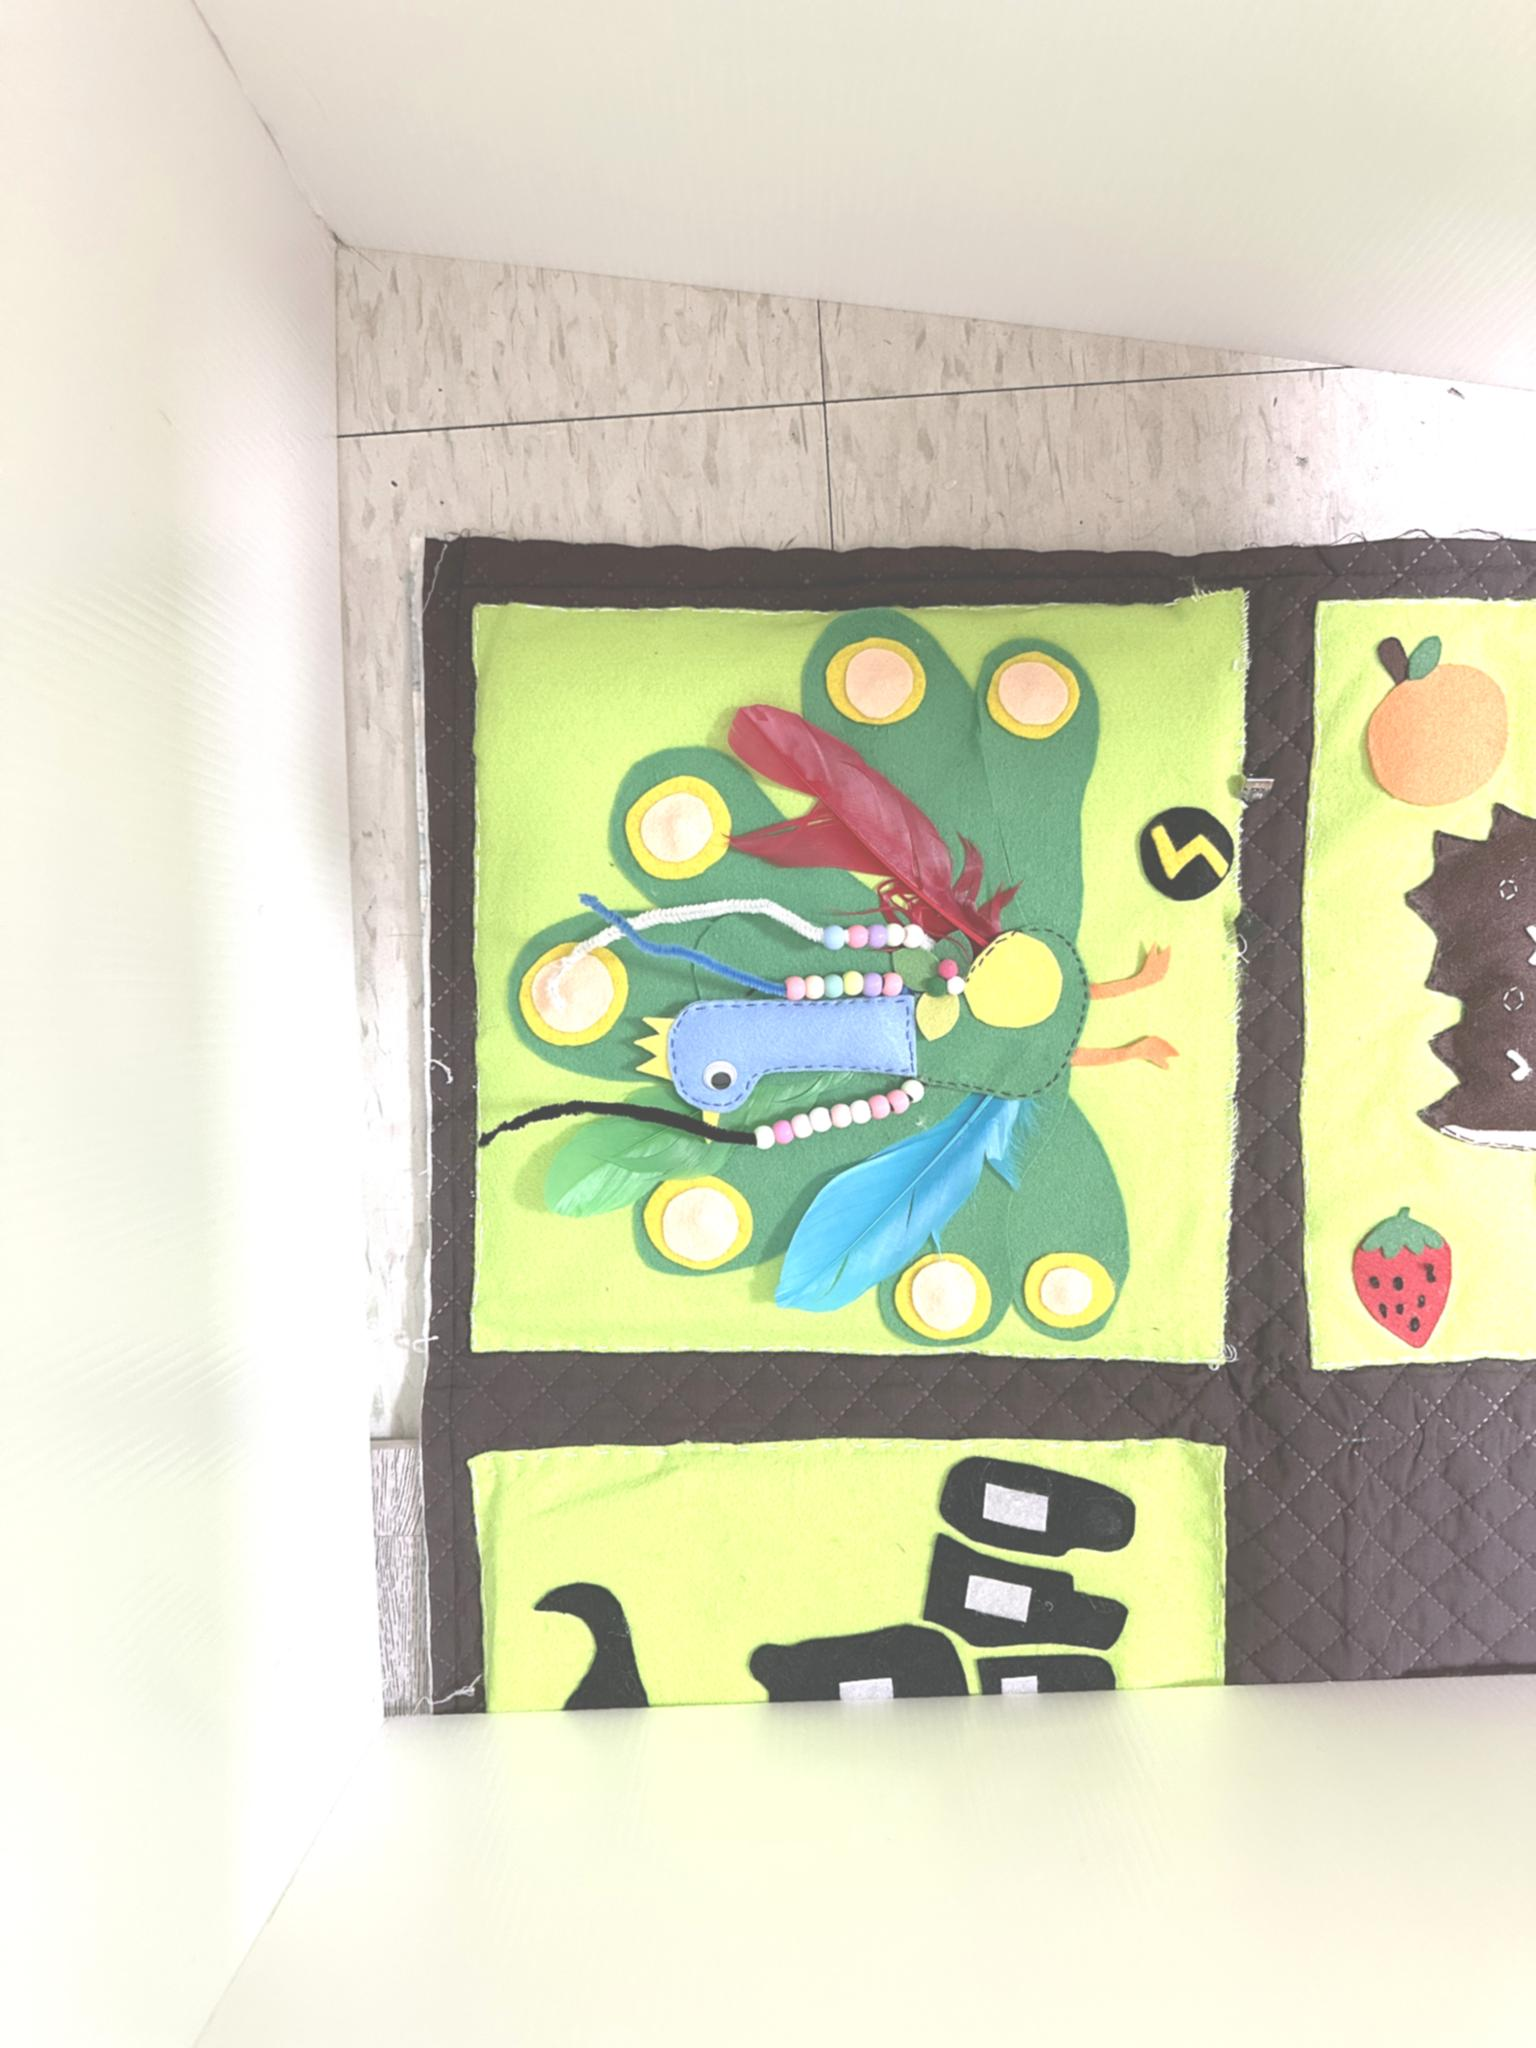bead: (868, 1093, 891, 1122), (784, 977, 808, 1003), (886, 1089, 910, 1113), (823, 926, 847, 950), (841, 971, 863, 997), (850, 1100, 871, 1127), (752, 1124, 773, 1150), (847, 927, 870, 950), (810, 1108, 831, 1132), (833, 1103, 852, 1129), (902, 1080, 925, 1101), (863, 972, 883, 997), (805, 977, 824, 1001), (792, 1116, 813, 1137), (883, 974, 902, 997), (824, 976, 844, 998), (905, 924, 923, 948), (887, 926, 907, 947), (774, 1121, 792, 1142), (868, 926, 886, 947)
